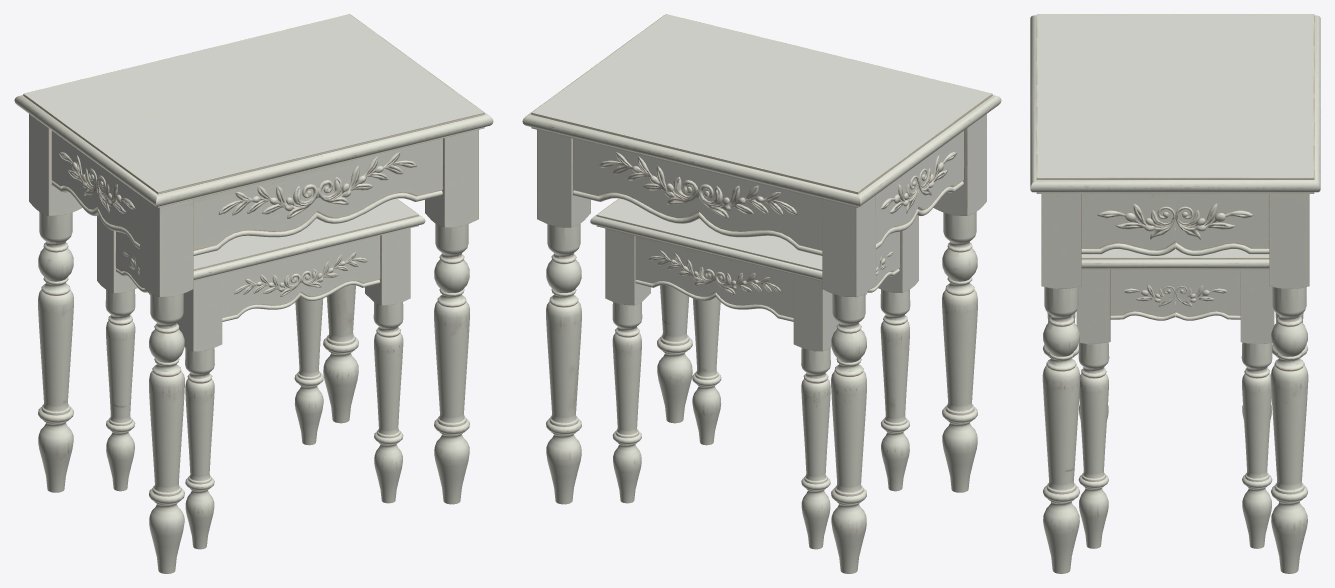
File: example175.glb
3 renders of one model, left to right at view 1: azimuth 30°, elevation 25°; view 2: azimuth 150°, elevation 25°; view 3: azimuth 270°, elevation 25°, orthographic. The views are drawn at different scales.
Visible parts, largest first — view 1: Buffer Layer (×3); view 2: Buffer Layer (×3); view 3: Buffer Layer (×3).
Boxes of the visible parts, x1=… form: Buffer Layer (×3): x1=14, y1=14, x2=493, y2=573; Buffer Layer (×3): x1=522, y1=14, x2=1001, y2=573; Buffer Layer (×3): x1=1030, y1=14, x2=1320, y2=573.
Bounding box in the file's own units: 1.12 × 1.24 × 0.8116.
Materials: 2 (1 with a texture image).
